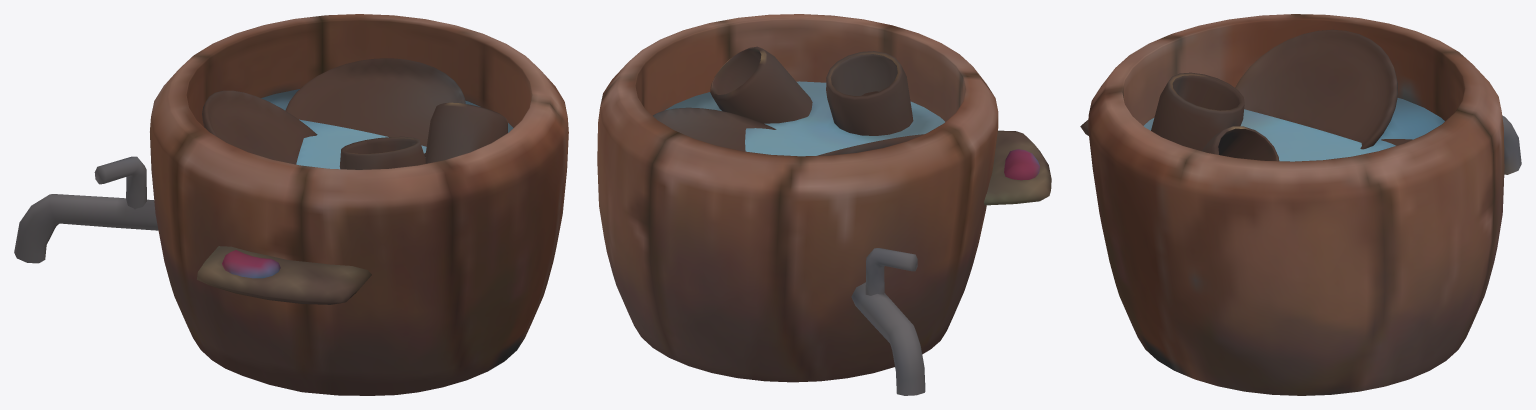
The model's file is Beach_Tavern_Sink.glb.
The picture shows the model from 3 angles, left to right: view 1: azimuth 30°, elevation 25°; view 2: azimuth 150°, elevation 25°; view 3: azimuth 270°, elevation 25°; orthographic projection. The views are drawn at different scales.
Visible parts, largest first — view 1: Object_2.010; view 2: Object_2.010; view 3: Object_2.010.
Boxes of the visible parts, box(x1,y1,x2,y2) form: Object_2.010: box(14, 14, 568, 395); Object_2.010: box(597, 14, 1051, 395); Object_2.010: box(1080, 14, 1521, 395).
Size of the model in its own units: 10.31 by 5.58 by 9.49.
Materials: 1 (1 with a texture image).
